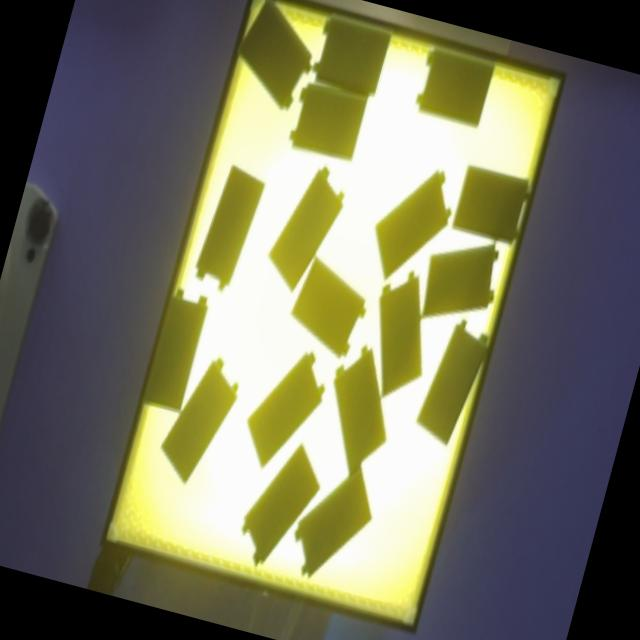bateria: (242, 443, 320, 567), (161, 359, 238, 483), (268, 166, 343, 291), (415, 318, 488, 445), (247, 351, 324, 468), (195, 163, 265, 291), (375, 169, 451, 280), (295, 467, 371, 578), (237, 0, 311, 109), (144, 288, 208, 410), (291, 257, 367, 357), (333, 345, 387, 473), (312, 13, 392, 96), (416, 45, 496, 128), (452, 164, 531, 244), (288, 82, 368, 161), (422, 243, 497, 317), (379, 271, 421, 395)
mesa: (99, 0, 567, 635)
